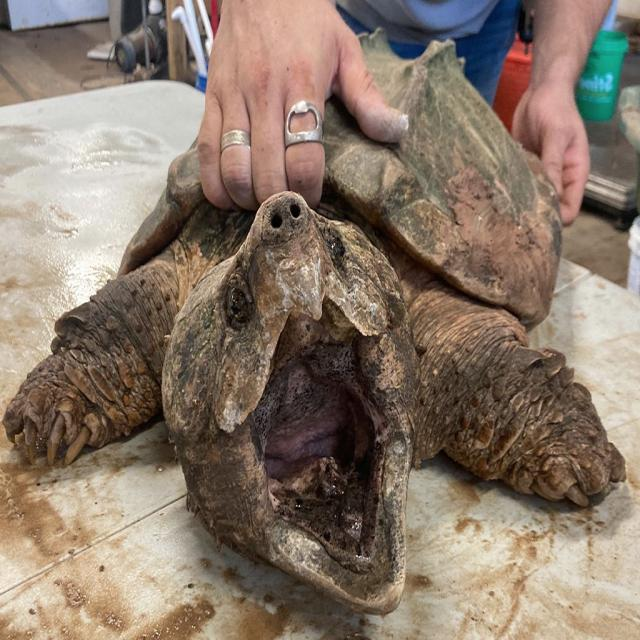turtle: (3, 33, 626, 611)
